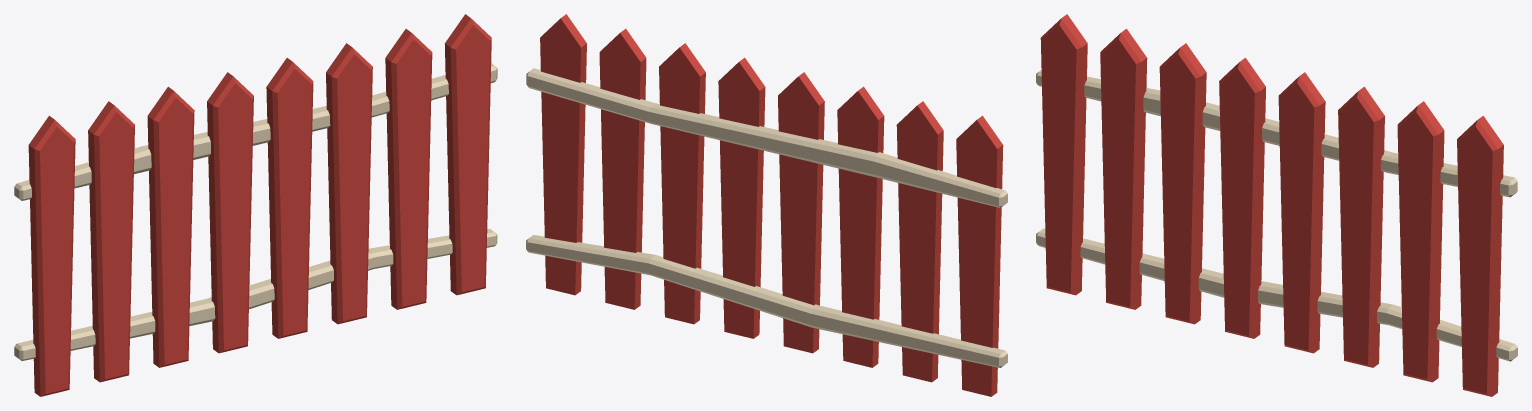
Rendered from fence_p.gltf.
3 renders of one model, left to right at view 1: azimuth 30°, elevation 25°; view 2: azimuth 150°, elevation 25°; view 3: azimuth 330°, elevation 25°, orthographic.
Parts seen in each view (by area): view 1: fence_p001; view 2: fence_p001; view 3: fence_p001.
Part boxes in pixels (bbox=[...]): fence_p001: bbox=[14, 14, 497, 396]; fence_p001: bbox=[526, 14, 1007, 396]; fence_p001: bbox=[1036, 14, 1517, 396].
Bounding box in the file's own units: 1.04 × 0.5673 × 0.0517.
1 material, 1 textured.
